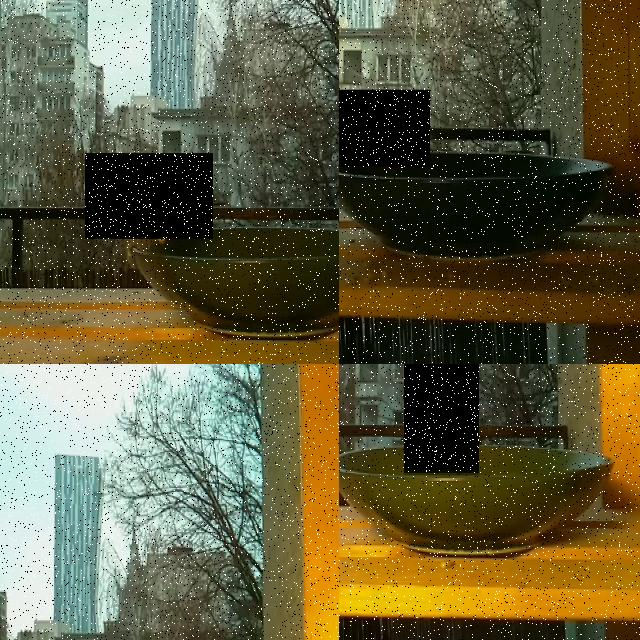Bogatka: (85, 153, 213, 239)
Wrobel: (404, 364, 479, 474), (339, 89, 430, 167)
